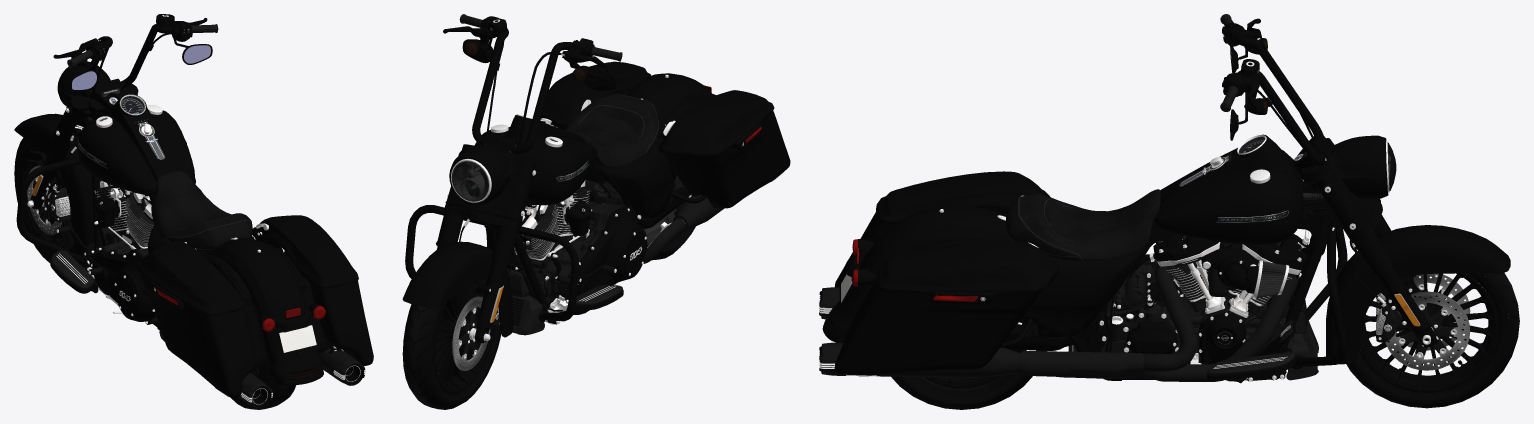
The model's file is harley-davidson-flhrxs.glb.
3 views of the same model, side by side, from view 1: azimuth 30°, elevation 25°; view 2: azimuth 150°, elevation 25°; view 3: azimuth 270°, elevation 25° (orthographic). The views are drawn at different scales.
Visible parts, largest first — view 1: Object_53, Object_9, Object_5, Object_42, Object_28, Object_16, Object_7, Object_11, Object_27, Object_47, Object_6, Object_31 (+4 smaller); view 2: Object_53, Object_9, Object_5, Object_28, Object_42, Object_16, Object_47, Object_11, Object_7, Object_22, Object_31, Object_27 (+6 smaller); view 3: Object_53, Object_28, Object_9, Object_5, Object_42, Object_16, Object_7, Object_31, Object_11, Object_47, Object_24, Object_27 (+2 smaller).
Boxes of the visible parts, left/top/right/bottom form: Object_53: left=14, top=110, right=373, bottom=397; Object_9: left=16, top=45, right=360, bottom=404; Object_5: left=22, top=24, right=341, bottom=377; Object_42: left=56, top=171, right=252, bottom=275; Object_28: left=36, top=96, right=365, bottom=408; Object_16: left=27, top=40, right=365, bottom=404; Object_7: left=23, top=21, right=212, bottom=250; Object_11: left=44, top=14, right=363, bottom=407; Object_27: left=51, top=24, right=218, bottom=288; Object_47: left=14, top=137, right=296, bottom=409; Object_6: left=45, top=15, right=317, bottom=357; Object_31: left=15, top=139, right=263, bottom=402; Object_53: left=402, top=61, right=790, bottom=337; Object_9: left=405, top=85, right=715, bottom=393; Object_5: left=433, top=29, right=676, bottom=393; Object_28: left=460, top=167, right=723, bottom=356; Object_42: left=559, top=93, right=659, bottom=285; Object_16: left=447, top=52, right=783, bottom=358; Object_47: left=402, top=242, right=684, bottom=409; Object_11: left=439, top=16, right=610, bottom=377; Object_7: left=441, top=28, right=679, bottom=390; Object_22: left=451, top=41, right=585, bottom=201; Object_31: left=431, top=226, right=695, bottom=403; Object_27: left=459, top=14, right=691, bottom=304; Object_53: left=822, top=150, right=1510, bottom=375; Object_28: left=819, top=137, right=1453, bottom=381; Object_9: left=844, top=52, right=1498, bottom=392; Object_5: left=841, top=33, right=1499, bottom=392; Object_42: left=1006, top=189, right=1160, bottom=261; Object_16: left=819, top=38, right=1456, bottom=381; Object_7: left=931, top=31, right=1495, bottom=389; Object_31: left=900, top=273, right=1509, bottom=404; Object_11: left=819, top=23, right=1462, bottom=372; Object_47: left=891, top=272, right=1519, bottom=409; Object_24: left=1385, top=273, right=1470, bottom=370; Object_27: left=1181, top=14, right=1294, bottom=374.
Size of what is drawn, in the model's own units: 0.914 by 1.46 by 2.56.
44 materials, 37 textured.
